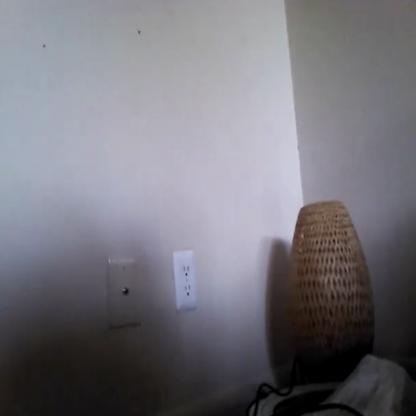OUTLET: (175, 250, 197, 311)
